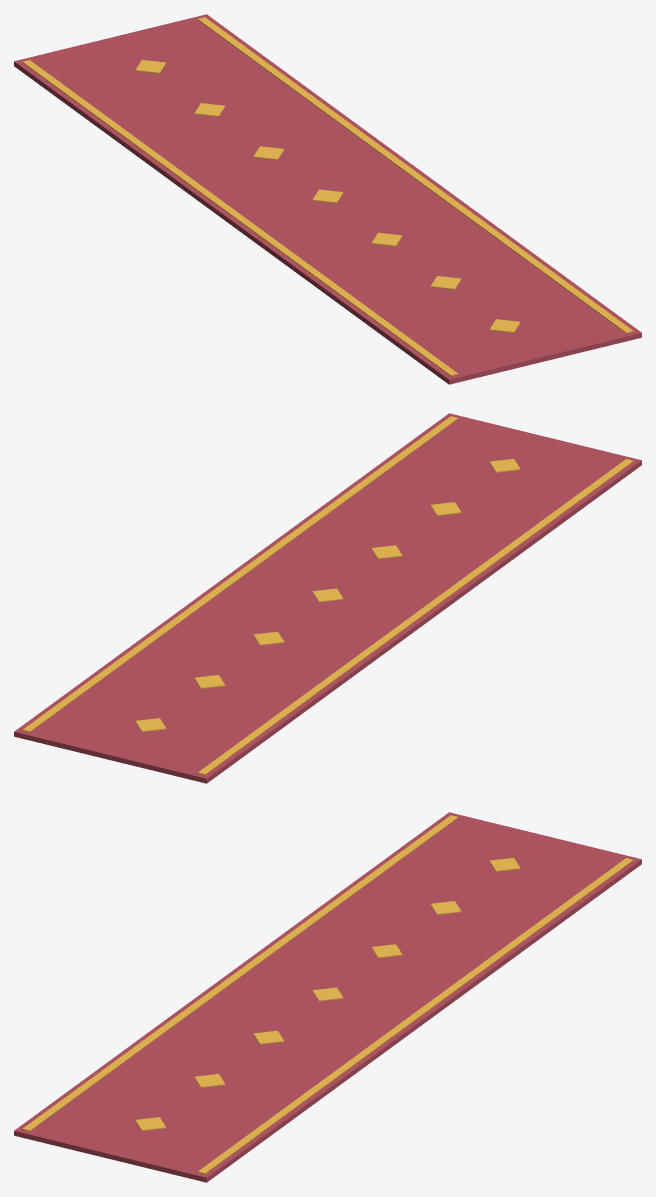
3 renders of one model, top to bottom at view 1: azimuth 30°, elevation 25°; view 2: azimuth 150°, elevation 25°; view 3: azimuth 330°, elevation 25°, orthographic.
Visible parts, largest first — view 1: Aisle runner, Woven gold border, Woven gold border.001; view 2: Aisle runner, Woven gold border, Woven gold border.001; view 3: Aisle runner, Woven gold border, Woven gold border.001.
Boxes of the visible parts, left/top/right/bottom form: Aisle runner: left=14, top=14, right=641, bottom=384; Woven gold border: left=22, top=60, right=457, bottom=375; Woven gold border.001: left=197, top=17, right=633, bottom=333; Aisle runner: left=14, top=413, right=641, bottom=783; Woven gold border: left=198, top=459, right=633, bottom=774; Woven gold border.001: left=22, top=416, right=458, bottom=732; Aisle runner: left=14, top=812, right=641, bottom=1182; Woven gold border: left=22, top=815, right=458, bottom=1131; Woven gold border.001: left=198, top=858, right=633, bottom=1173.
Bounding box in the file's own units: 0.66 × 0.0195 × 2.58.
Materials: 1 (1 with a texture image).
